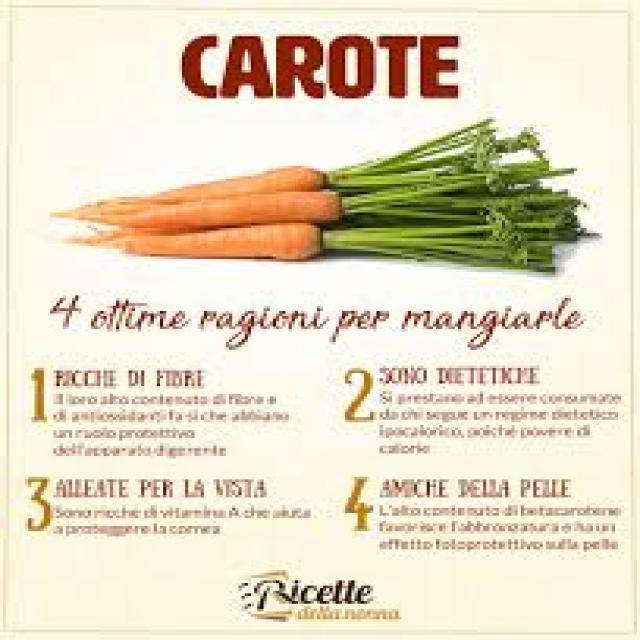Carrot: (106, 224, 332, 263)
